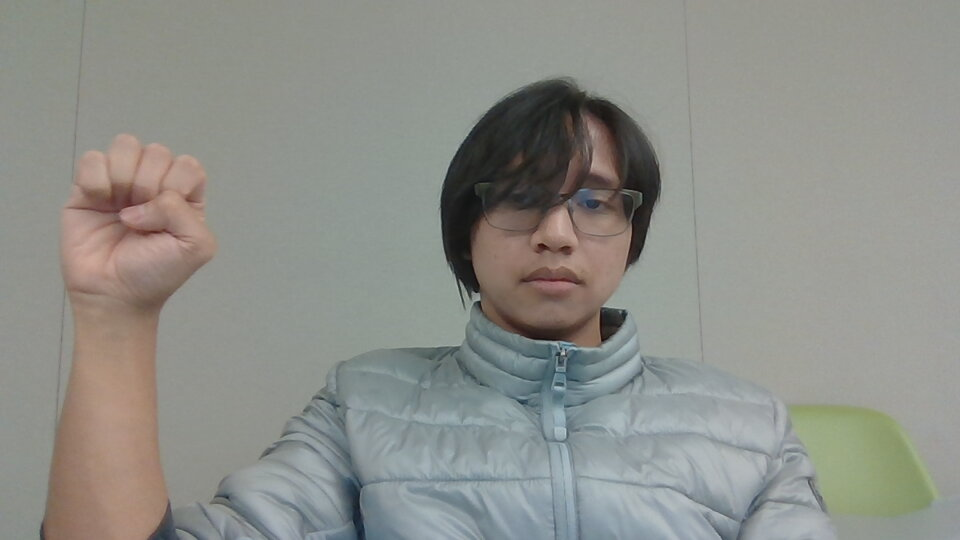e: (58, 131, 220, 313)
